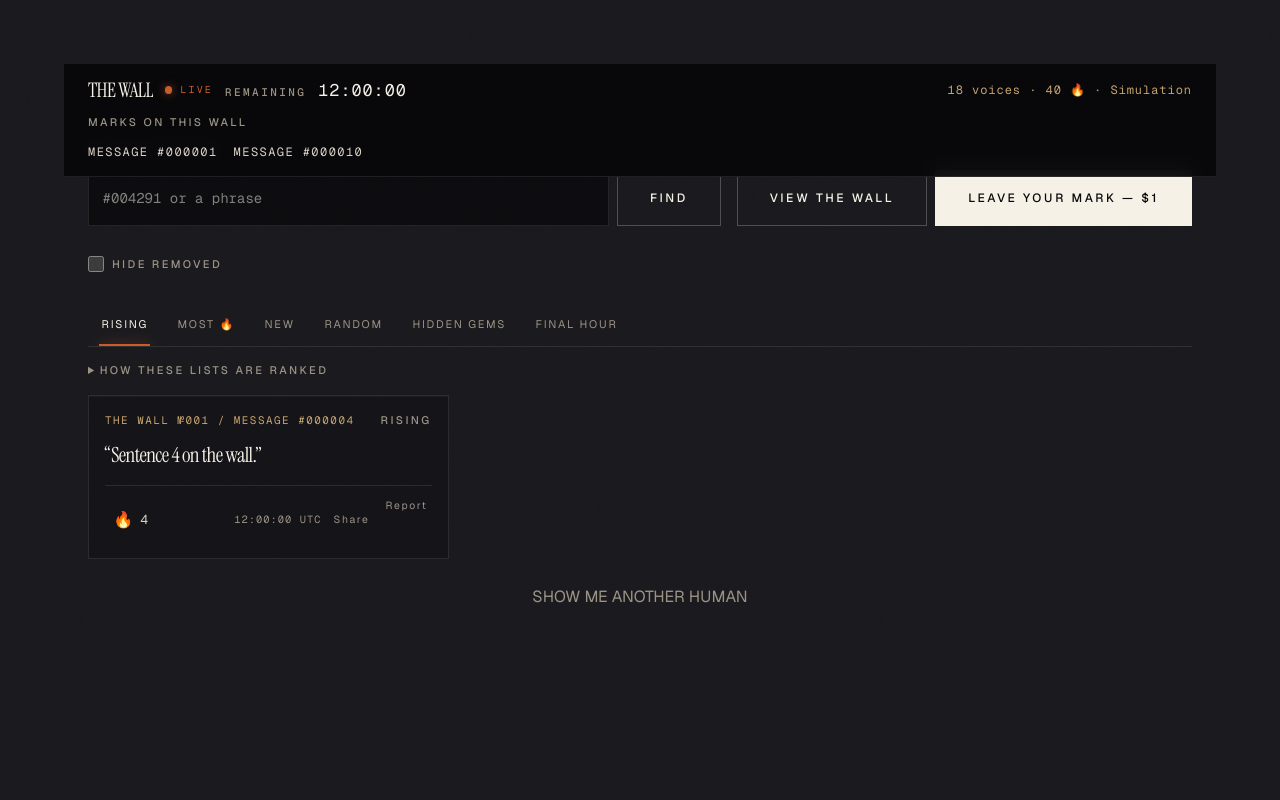
Test: live wall › opens fullscreen random mode from the random tab
Click the tab "Random" at (354, 324), box [311,302,397,346]
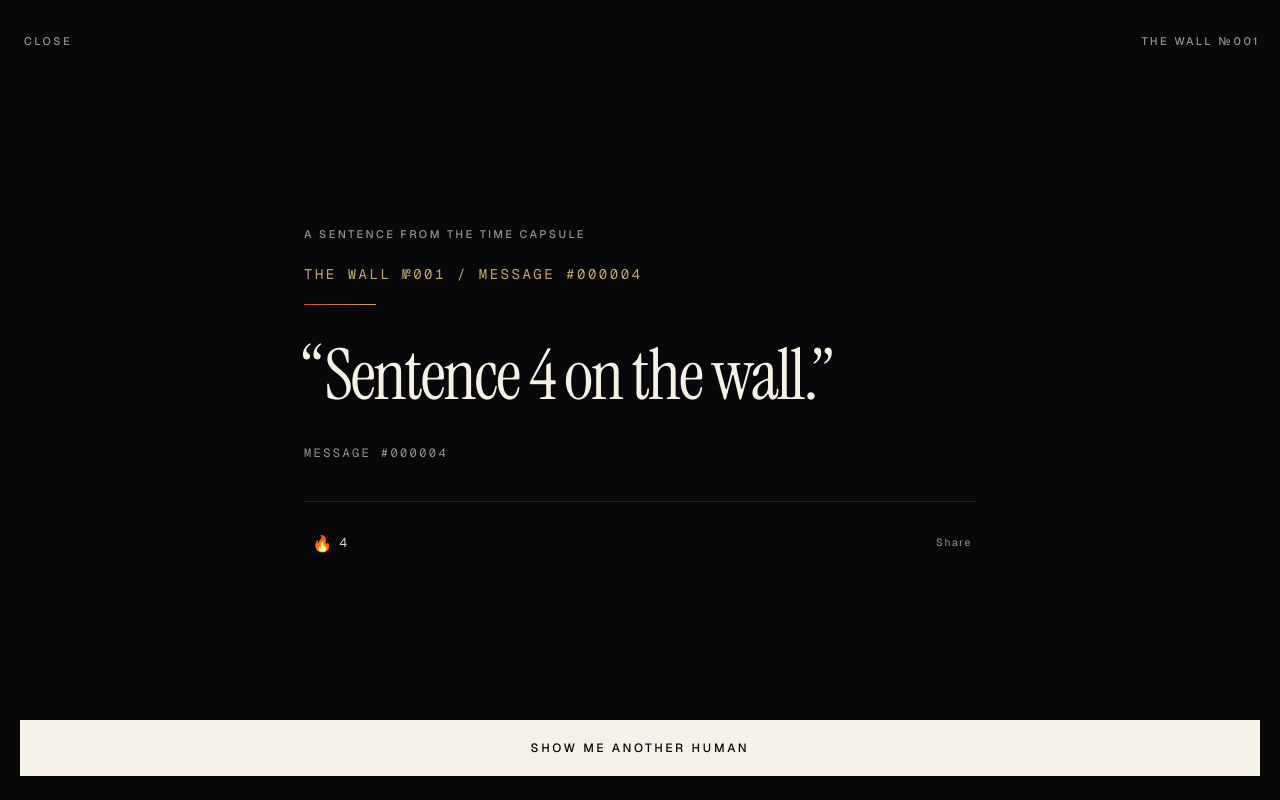
Expected: the button "SHOW ME ANOTHER HUMAN" is shown, [20,720,1260,776]
Expected: the dialog named "random" is shown
